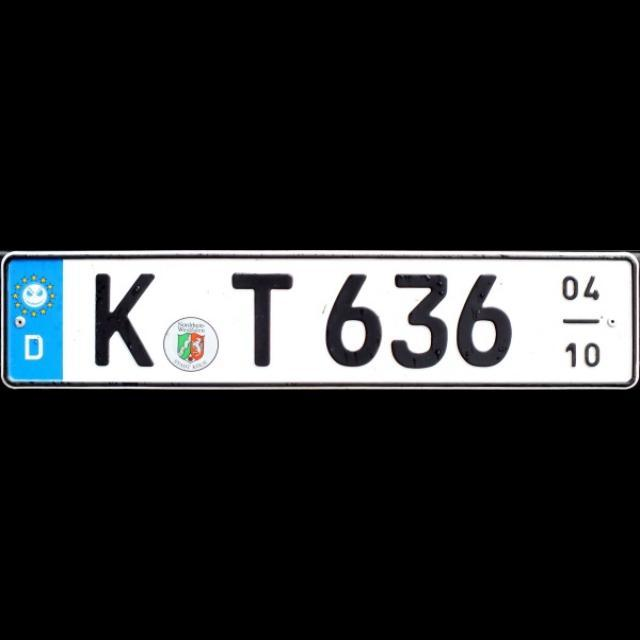license-plates: (1, 252, 640, 388)
